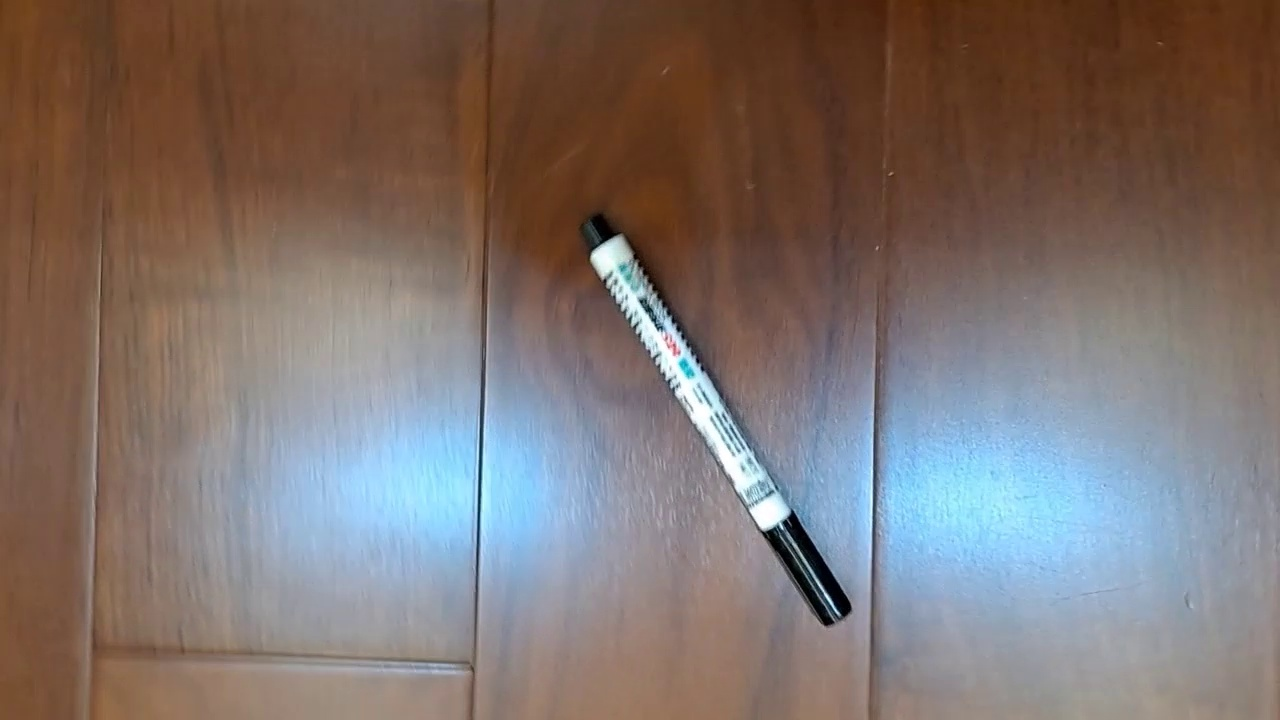pen: (577, 211, 852, 627)
